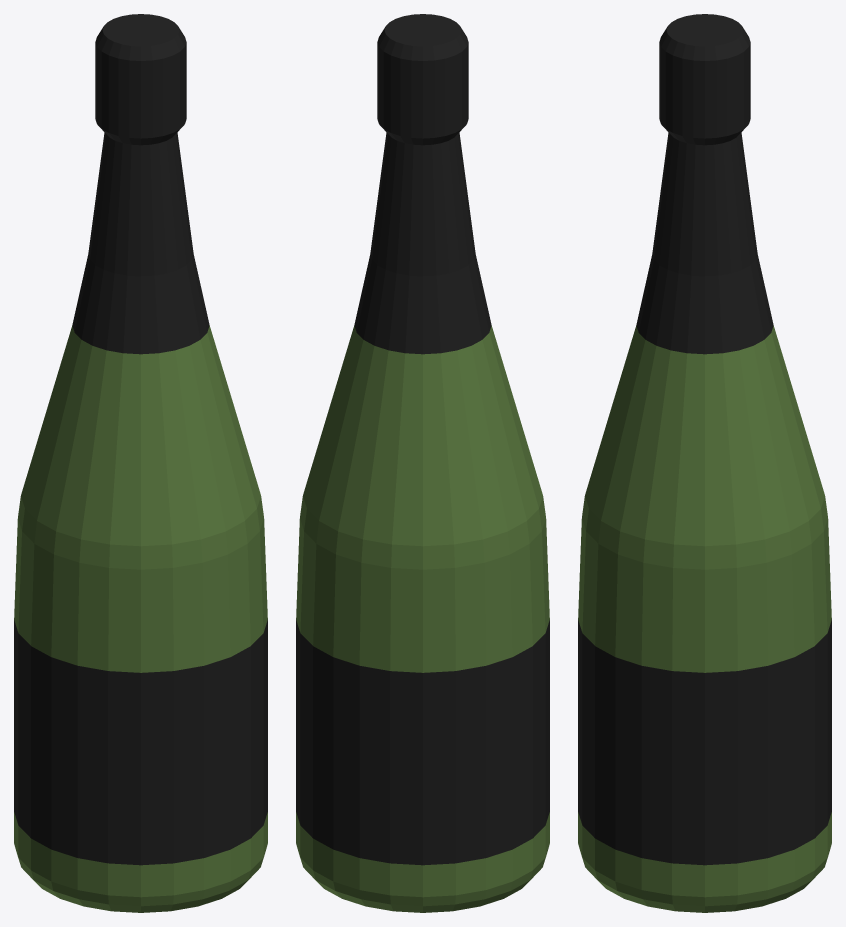
Rendered from Champagne_01.fbx.
3 views of the same model, side by side, from view 1: azimuth 30°, elevation 25°; view 2: azimuth 150°, elevation 25°; view 3: azimuth 270°, elevation 25° (orthographic).
Visible parts, largest first — view 1: Champagne_01; view 2: Champagne_01; view 3: Champagne_01.
Boxes of the visible parts, <box> form: Champagne_01: <box>14,14,267,912</box>; Champagne_01: <box>296,14,549,912</box>; Champagne_01: <box>578,14,831,912</box>.
Size of the model in its own units: 9.86 by 35.75 by 9.86.
